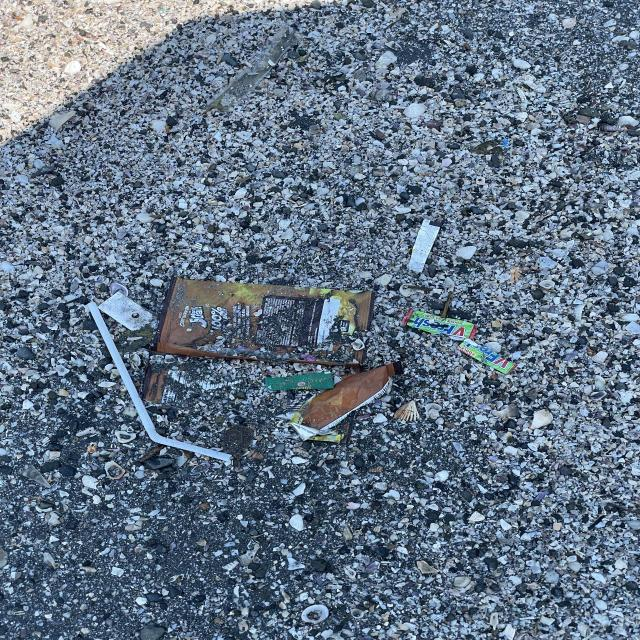plastic_waste: (88, 302, 233, 464), (153, 278, 374, 362), (266, 366, 404, 445), (403, 309, 478, 343), (460, 339, 523, 378)
